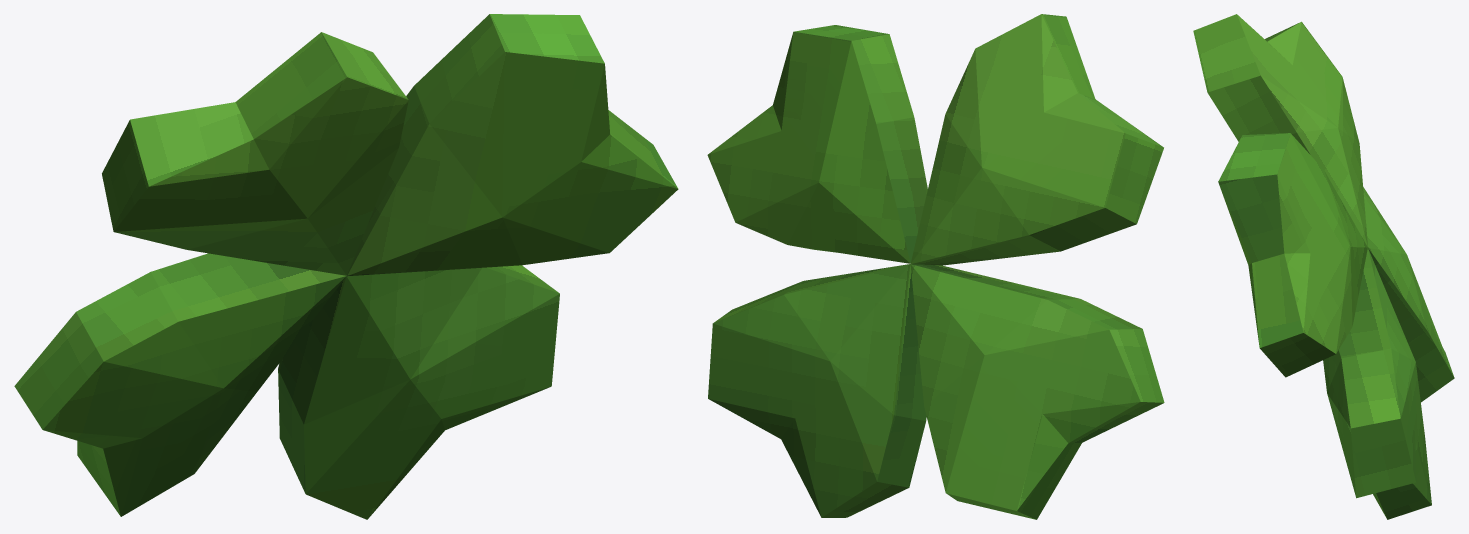
The model's file is Lucky Leaf.fbx.
3 views of the same model, side by side, from view 1: azimuth 30°, elevation 25°; view 2: azimuth 150°, elevation 25°; view 3: azimuth 270°, elevation 25° (orthographic). The views are drawn at different scales.
Parts seen in each view (by area): view 1: FourLeafClover; view 2: FourLeafClover; view 3: FourLeafClover.
Part boxes in pixels (x1,y1,x2,y2): FourLeafClover: [14, 14, 678, 519]; FourLeafClover: [707, 14, 1164, 519]; FourLeafClover: [1193, 14, 1454, 519].
Bounding box in the file's own units: 30.23 × 29.04 × 15.21.
Materials: 1 (1 with a texture image).
